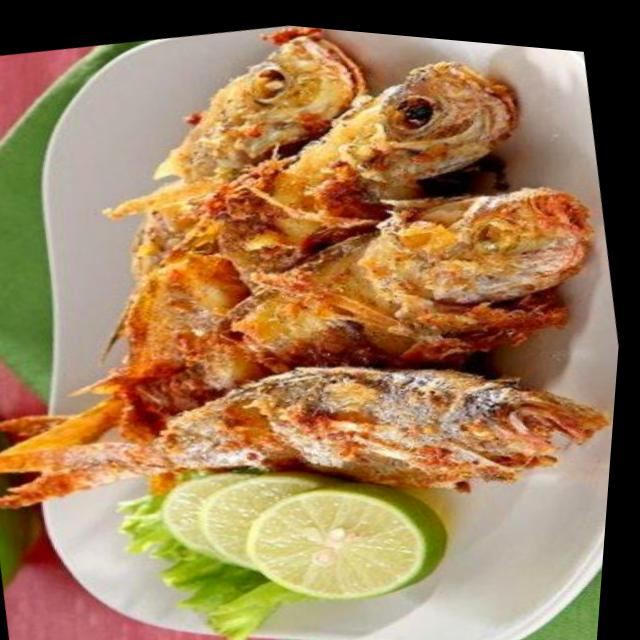ikan goreng: (0, 0, 442, 474), (79, 11, 577, 425), (0, 282, 624, 582), (62, 130, 626, 427)
